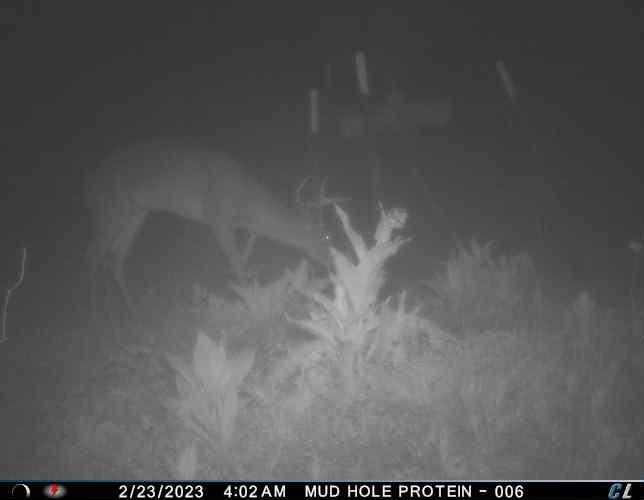Deer: (78, 138, 348, 320)
